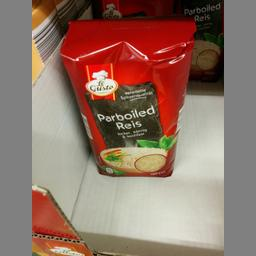rice: (58, 18, 196, 177)
